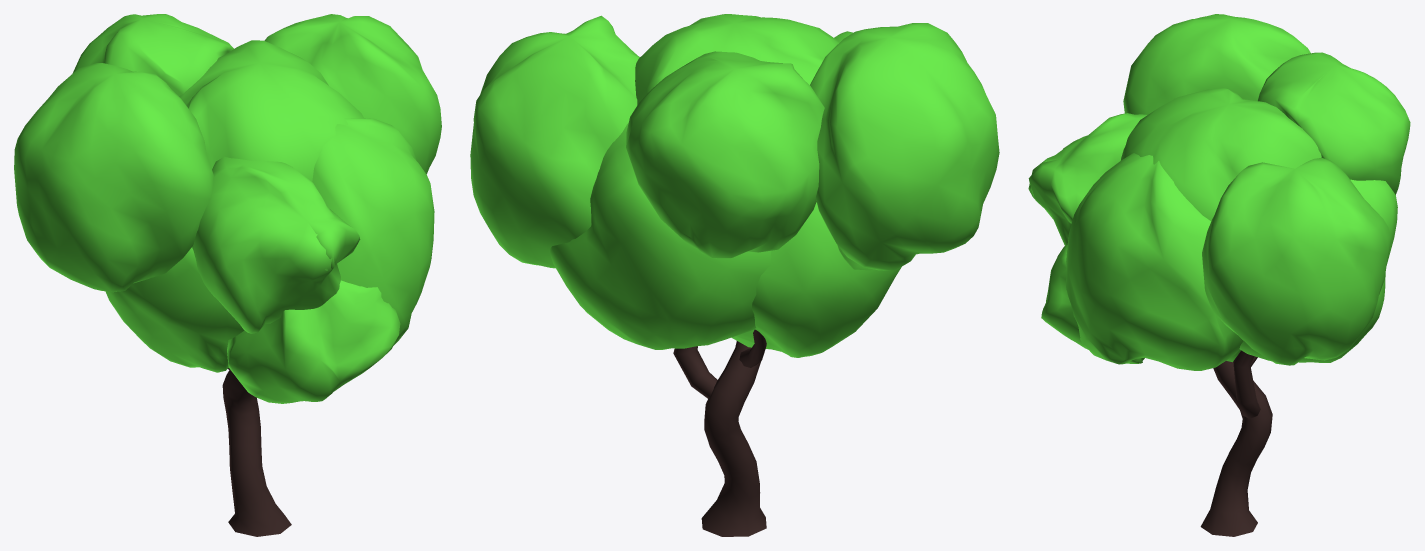
The model's file is tree_06.glb.
3 renders of one model, left to right at view 1: azimuth 30°, elevation 25°; view 2: azimuth 150°, elevation 25°; view 3: azimuth 270°, elevation 25°, orthographic. The views are drawn at different scales.
Visible parts, largest first — view 1: FOLIAGE, TREE_BARK-COL; view 2: FOLIAGE, TREE_BARK-COL; view 3: FOLIAGE, TREE_BARK-COL.
Part boxes in pixels (<box>): FOLIAGE: <box>14,14,441,403</box>; TREE_BARK-COL: <box>222,368,291,536</box>; FOLIAGE: <box>470,14,999,357</box>; TREE_BARK-COL: <box>673,329,766,536</box>; FOLIAGE: <box>1028,14,1410,370</box>; TREE_BARK-COL: <box>1200,350,1272,536</box>.
Bounding box in the file's own units: 7.88 × 8.65 × 6.79.
